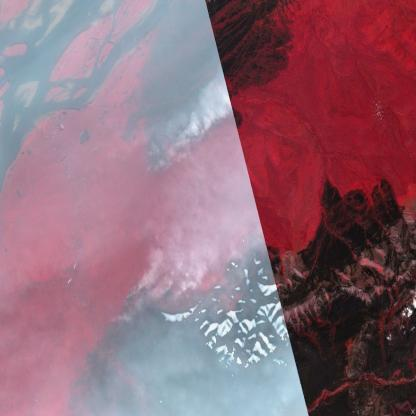fire: (109, 247, 242, 331), (139, 92, 233, 179)
